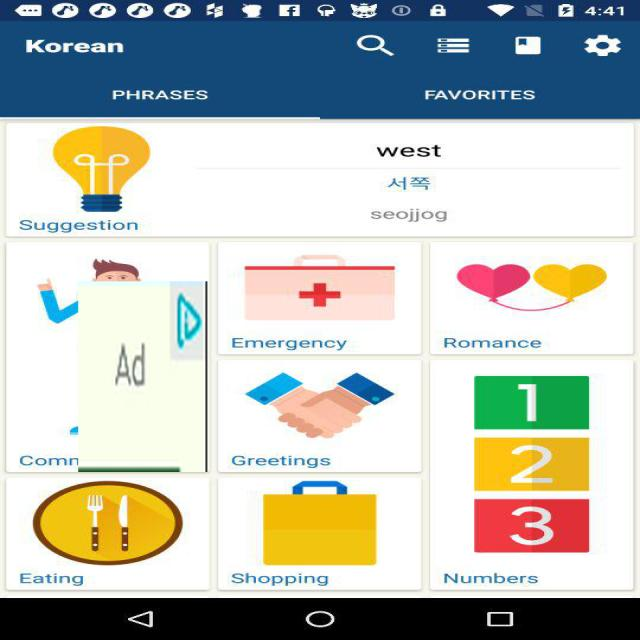sneaking: (78, 281, 208, 472)
